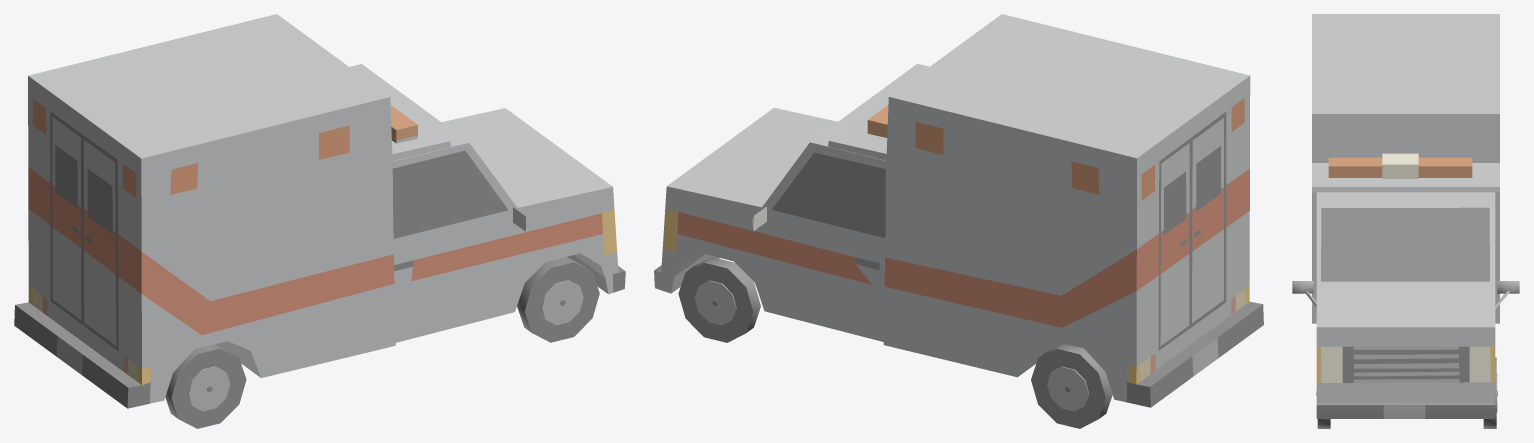
Rendered from truck8.fbx.
3 renders of one model, left to right at view 1: azimuth 30°, elevation 25°; view 2: azimuth 150°, elevation 25°; view 3: azimuth 270°, elevation 25°, orthographic. The views are drawn at different scales.
Visible parts, largest first — view 1: Extrude_1, Cylinder_6, Cylinder_9; view 2: Extrude_1, Cylinder_7, Cylinder_8; view 3: Extrude_1, Cylinder_7.
Part boxes in pixels (box(x1,y1,x2,y2)): Extrude_1: box(14, 14, 625, 408); Cylinder_6: box(517, 257, 599, 342); Cylinder_9: box(165, 344, 246, 428); Extrude_1: box(654, 14, 1263, 407); Cylinder_7: box(678, 257, 760, 342); Cylinder_8: box(1031, 343, 1112, 428); Extrude_1: box(1292, 14, 1519, 418); Cylinder_7: box(1483, 357, 1497, 428).
Bounding box in the file's own units: 510 × 281 × 242.
